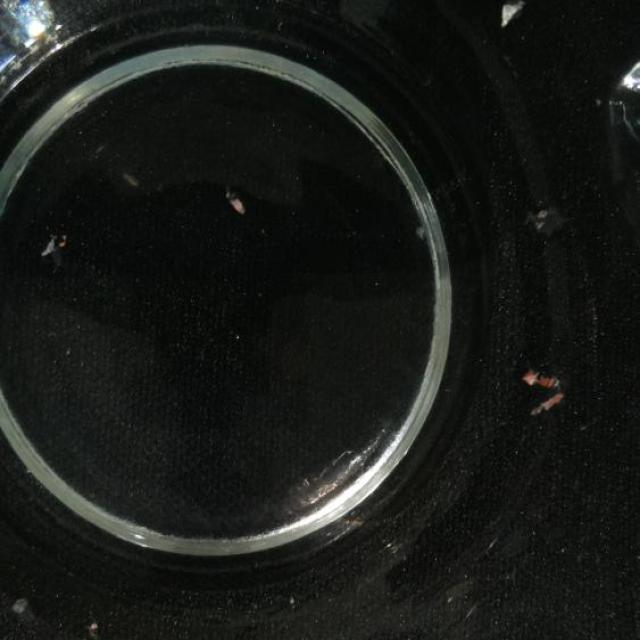fiber: (533, 376, 574, 423), (495, 0, 532, 32), (520, 361, 562, 387), (222, 187, 243, 223), (41, 232, 66, 256)
